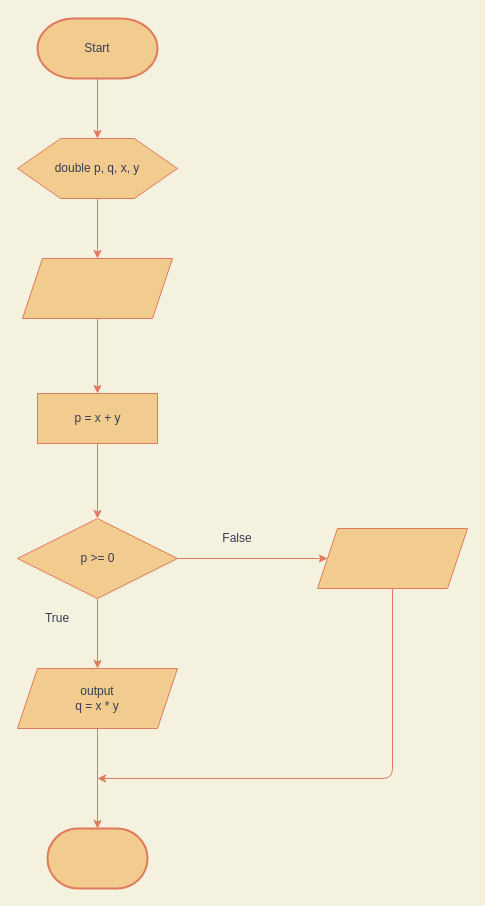
Image size: 485x906. Some labels were removed from this diagram. The shapes that lost their labels are listed below. From the top down, each one's centre as x and y in pixels, then its label:
[97,288]: input x, y
[392,558]: output q = x / y
[97,858]: End
